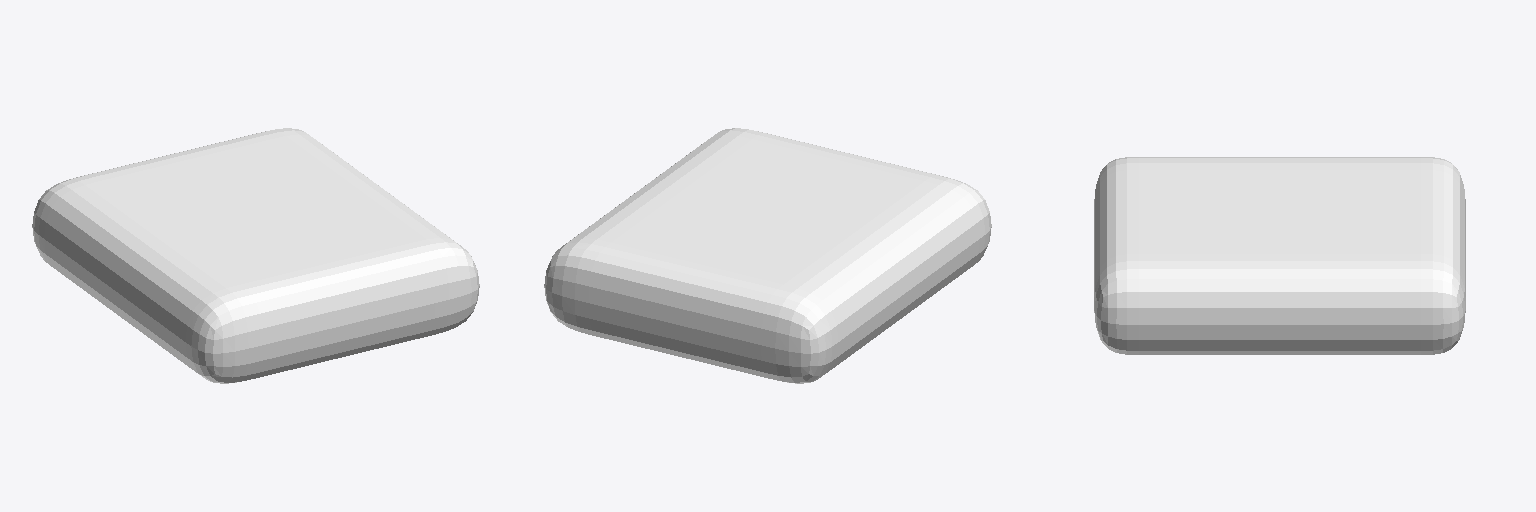
The model's file is SofaConnector.obj.
3 views of the same model, side by side, from view 1: azimuth 30°, elevation 25°; view 2: azimuth 150°, elevation 25°; view 3: azimuth 270°, elevation 25° (orthographic).
Parts seen in each view (by area): view 1: Sofa.001_Cube.154; view 2: Sofa.001_Cube.154; view 3: Sofa.001_Cube.154.
Part boxes in pixels (x1,y1,x2,y2): Sofa.001_Cube.154: (32, 128, 479, 383); Sofa.001_Cube.154: (544, 128, 991, 383); Sofa.001_Cube.154: (1094, 157, 1465, 354).
Size of the model in its own units: 1.01 by 0.3 by 1.15.